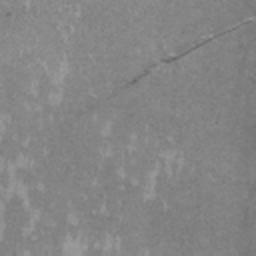Finishing roll printing: (122, 18, 255, 91)
